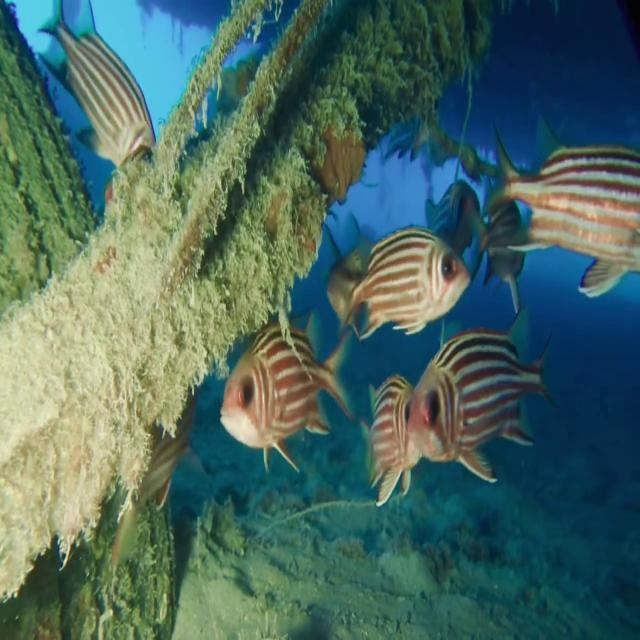Asker Baligi: (365, 314, 555, 508), (219, 314, 355, 474), (348, 227, 466, 334)
